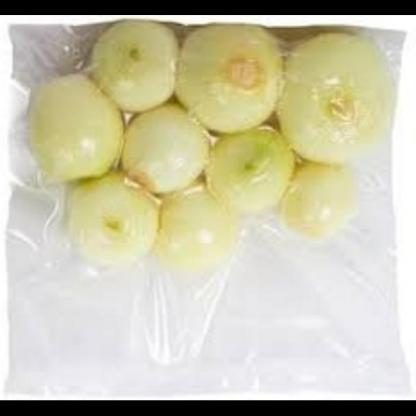onion: (35, 29, 384, 276)
